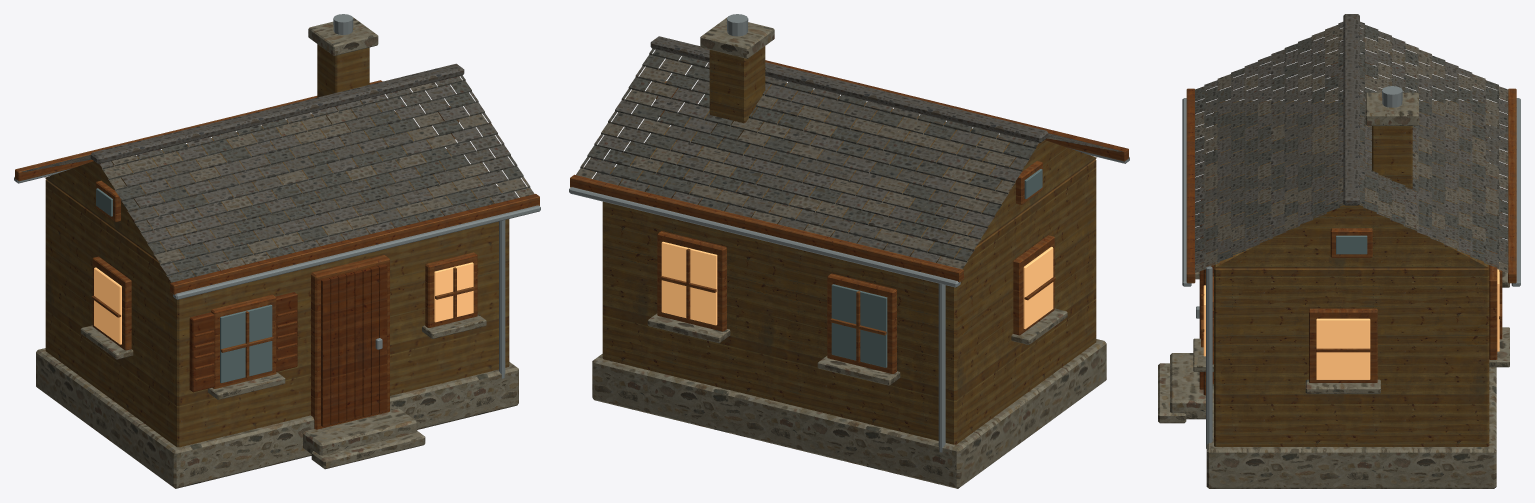
File: cottage-3.glb
3 views of the same model, side by side, from view 1: azimuth 30°, elevation 25°; view 2: azimuth 150°, elevation 25°; view 3: azimuth 270°, elevation 25° (orthographic). The views are drawn at different scales.
Visible parts, largest first — view 1: cottage-3; view 2: cottage-3; view 3: cottage-3.
Part boxes in pixels (x1,y1,x2,y2): cottage-3: (14,14,540,488); cottage-3: (569,14,1129,488); cottage-3: (1158,14,1520,488).
Size of the model in its own units: 4.21 by 3.76 by 3.48.
Materials: 11 (8 with a texture image).
